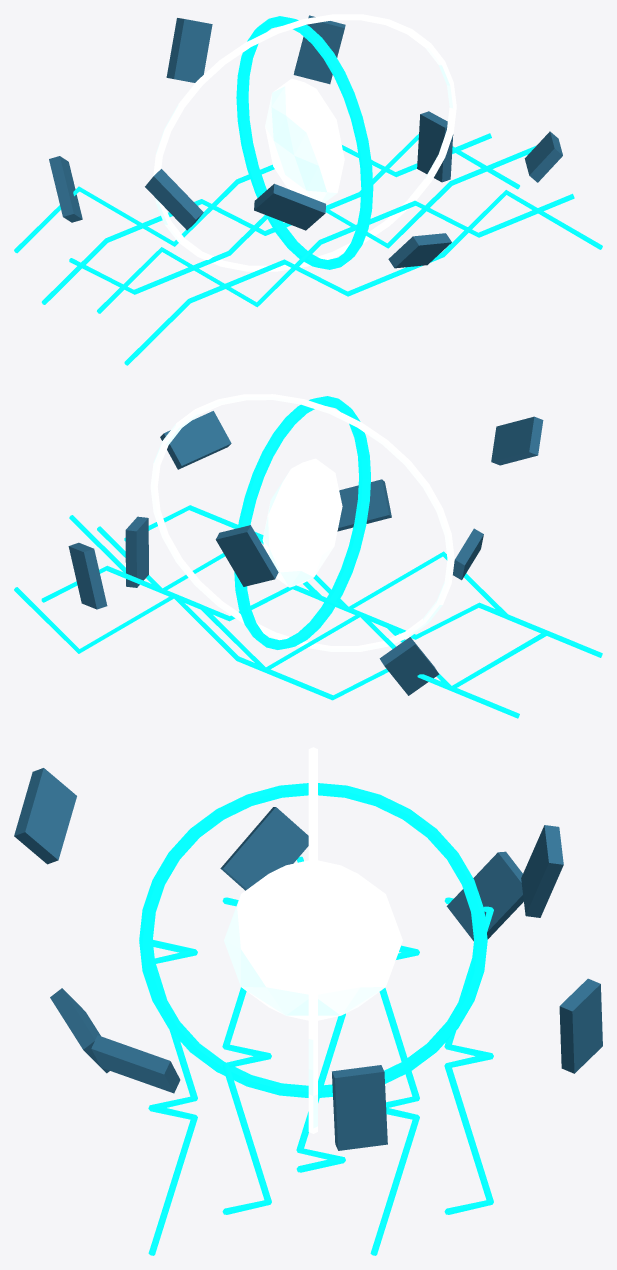
File: abyss-chancel-mirror-static.glb
The picture shows the model from 3 angles, top to bottom: view 1: azimuth 30°, elevation 25°; view 2: azimuth 150°, elevation 25°; view 3: azimuth 270°, elevation 25°; orthographic projection. The views are drawn at different scales.
Parts seen in each view (by area): view 1: veil-rift-lens, veil-scan-ring-x, veil-scan-ring-z, veil-static-filament-00, veil-static-filament-01, veil-static-filament-02, veil-mirror-shard-02, veil-static-filament-03, veil-mirror-shard-05, veil-static-filament-04, veil-mirror-shard-01, veil-mirror-shard-00 (+4 smaller); view 2: veil-rift-lens, veil-scan-ring-x, veil-scan-ring-z, veil-static-filament-04, veil-mirror-shard-02, veil-mirror-shard-07, veil-static-filament-03, veil-static-filament-02, veil-mirror-shard-05, veil-mirror-shard-03, veil-static-filament-01, veil-static-filament-00 (+4 smaller); view 3: veil-rift-lens, veil-scan-ring-x, veil-mirror-shard-00, veil-scan-ring-z, veil-mirror-shard-05, veil-mirror-shard-04, veil-mirror-shard-01, veil-mirror-shard-03, veil-static-filament-00, veil-mirror-shard-07, veil-mirror-shard-02, veil-static-filament-01 (+4 smaller).
Part boxes in pixels (x1,y1,x2,y2): veil-rift-lens: [265, 78, 344, 202]; veil-scan-ring-x: [236, 16, 373, 269]; veil-scan-ring-z: [153, 14, 456, 271]; veil-static-filament-00: [124, 190, 602, 365]; veil-static-filament-01: [97, 193, 574, 313]; veil-static-filament-02: [69, 146, 535, 294]; veil-mirror-shard-02: [166, 18, 212, 82]; veil-static-filament-03: [41, 134, 519, 304]; veil-mirror-shard-05: [254, 183, 325, 230]; veil-static-filament-04: [14, 133, 491, 253]; veil-mirror-shard-01: [293, 15, 345, 84]; veil-mirror-shard-00: [417, 111, 453, 182]; veil-rift-lens: [262, 458, 342, 587]; veil-scan-ring-x: [234, 396, 370, 649]; veil-scan-ring-z: [150, 394, 454, 651]; veil-static-filament-04: [14, 587, 492, 707]; veil-mirror-shard-02: [215, 525, 278, 586]; veil-mirror-shard-07: [160, 411, 231, 469]; veil-static-filament-03: [41, 565, 519, 718]; veil-static-filament-02: [69, 515, 548, 687]; veil-mirror-shard-05: [491, 416, 543, 465]; veil-mirror-shard-03: [379, 637, 439, 695]; veil-static-filament-01: [97, 526, 575, 646]; veil-static-filament-00: [124, 505, 602, 657]; veil-rift-lens: [224, 860, 402, 1020]; veil-scan-ring-x: [139, 783, 487, 1097]; veil-mirror-shard-00: [332, 1065, 387, 1150]; veil-scan-ring-z: [308, 747, 317, 1133]; veil-mirror-shard-05: [14, 768, 76, 864]; veil-mirror-shard-04: [220, 807, 308, 890]; veil-mirror-shard-01: [559, 978, 602, 1073]; veil-mirror-shard-03: [446, 851, 523, 941]; veil-static-filament-00: [148, 940, 197, 1255]; veil-mirror-shard-07: [91, 1035, 180, 1093]; veil-mirror-shard-02: [521, 825, 563, 917]; veil-static-filament-01: [222, 897, 271, 1214].
Bounding box in the file's own units: 3.75 × 1.86 × 2.98.
